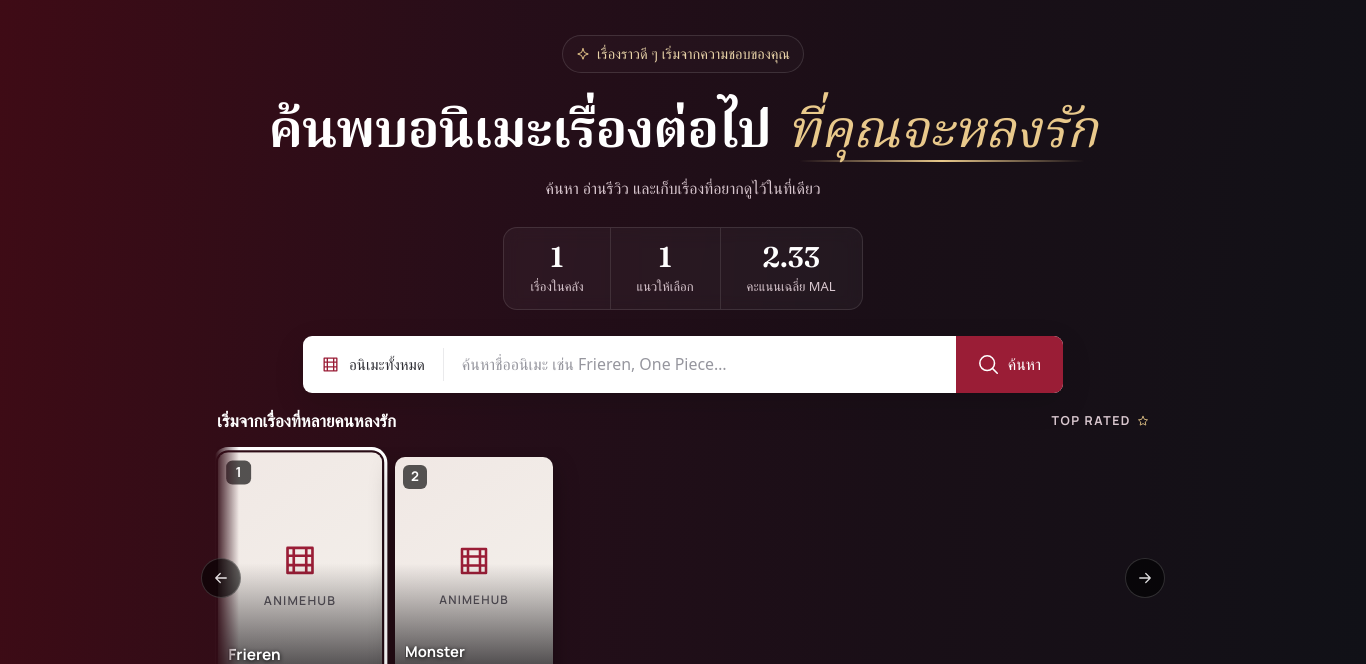
Test case: home search synchronizes suggestions and catalog results without another request
Type "Monster" into the field named "ค้นหาอนิเมะจากหน้าแรก".
click(700, 365); type("Monster")  # box left=444, top=336, right=956, bottom=393
(page scrolled)
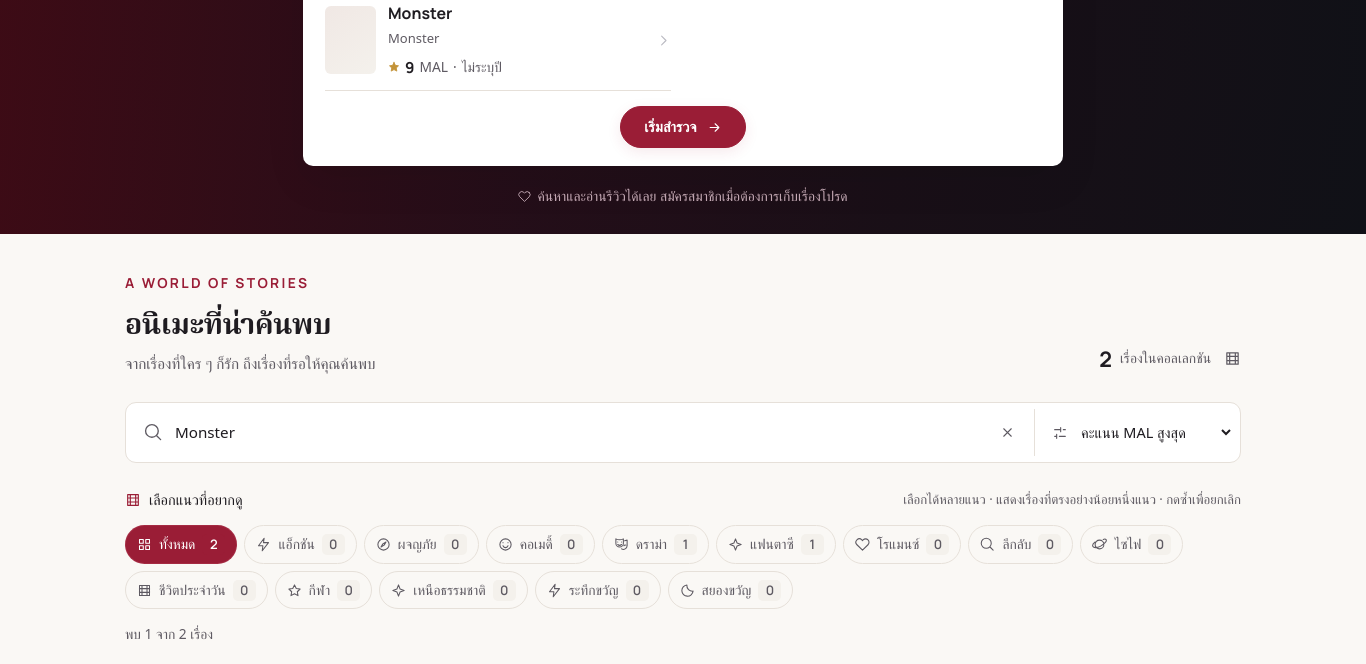
Expected: the field named "ค้นหาอนิเมะ" holds "Monster", left=175, top=409, right=978, bottom=456
Click the button named "ล้างคำค้นหา".
click(1007, 433)  # box left=990, top=415, right=1024, bottom=451
(page scrolled)
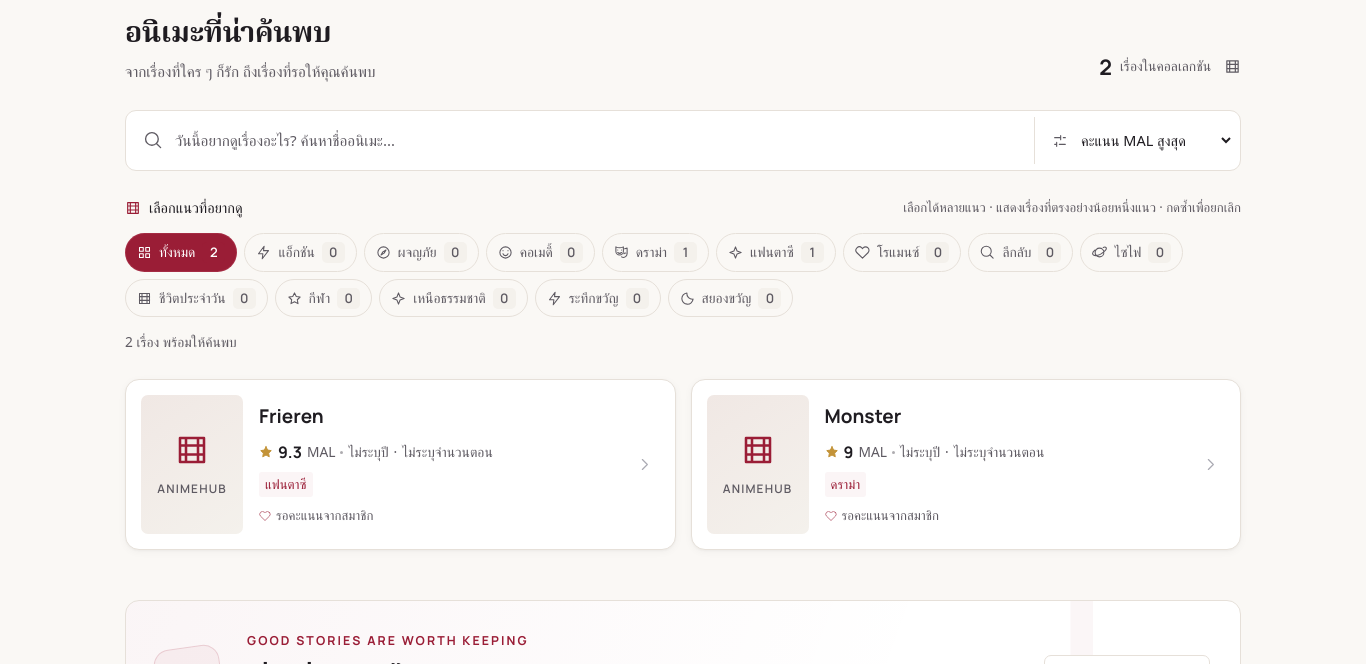
Expected: the element with class "anime-grid" shows "Frieren", left=125, top=379, right=676, bottom=550
